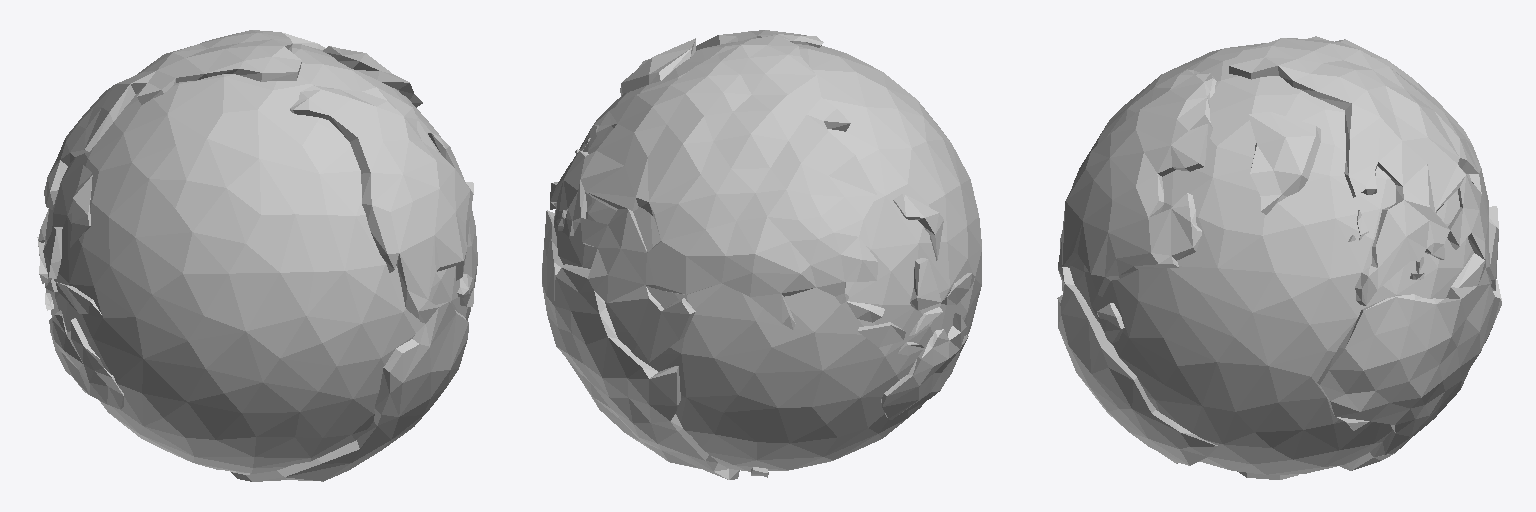
The model's file is Earth.obj.
3 views of the same model, side by side, from view 1: azimuth 30°, elevation 25°; view 2: azimuth 150°, elevation 25°; view 3: azimuth 270°, elevation 25° (orthographic).
Visible parts, largest first — view 1: Icosphere.011; view 2: Icosphere.011; view 3: Icosphere.011.
Part boxes in pixels (left/top/right/bottom): Icosphere.011: left=37, top=30, right=477, bottom=481; Icosphere.011: left=542, top=30, right=981, bottom=479; Icosphere.011: left=1057, top=36, right=1501, bottom=479.
Bounding box in the file's own units: 1.84 × 1.88 × 1.86.